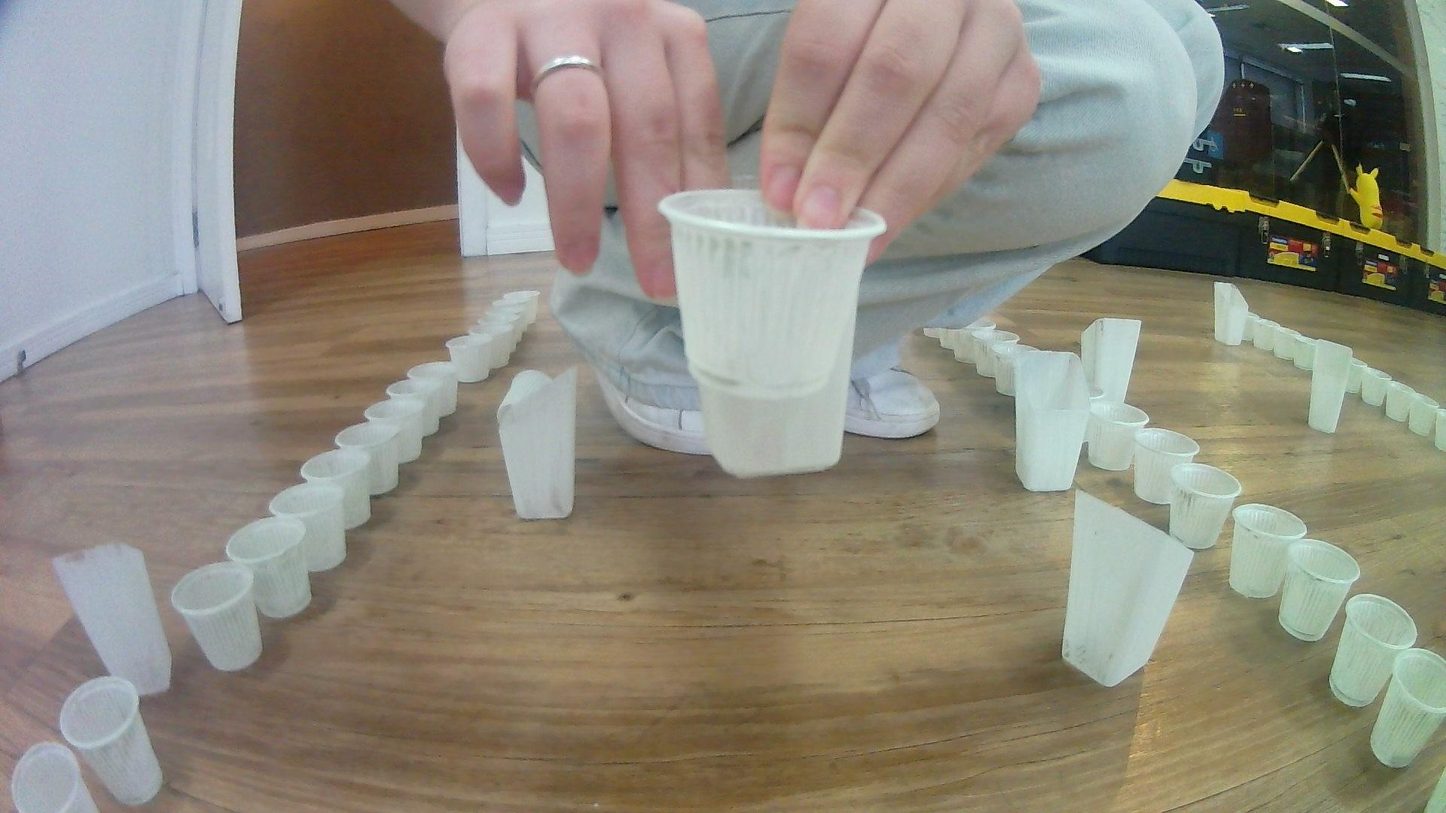erva_daninha: (1062, 489, 1196, 689), (53, 541, 172, 698), (702, 384, 855, 484), (496, 364, 578, 522), (1014, 352, 1091, 494), (1080, 317, 1141, 414), (1307, 339, 1353, 434), (1213, 281, 1249, 346)
planta: (650, 178, 894, 388), (59, 674, 163, 806), (170, 562, 264, 674), (1329, 593, 1418, 708), (1369, 647, 1446, 770), (224, 516, 315, 620), (1278, 538, 1362, 644), (1228, 503, 1307, 600), (267, 483, 349, 574), (8, 739, 101, 813), (1167, 462, 1242, 550), (297, 450, 371, 531), (1132, 426, 1201, 507), (334, 423, 401, 496), (1084, 403, 1151, 473), (363, 401, 424, 464), (386, 381, 441, 437), (406, 361, 459, 418), (990, 341, 1039, 397), (970, 329, 1020, 378), (445, 333, 492, 383), (468, 324, 510, 368), (477, 312, 521, 353), (951, 326, 993, 364), (1408, 395, 1441, 437), (1385, 380, 1416, 422), (492, 301, 528, 336), (503, 290, 540, 324), (1362, 367, 1392, 406), (1344, 356, 1370, 394), (1292, 335, 1319, 371), (938, 324, 965, 358), (1273, 328, 1296, 361), (1253, 321, 1277, 351), (922, 324, 950, 349), (1244, 317, 1266, 346), (1435, 408, 1446, 452)
